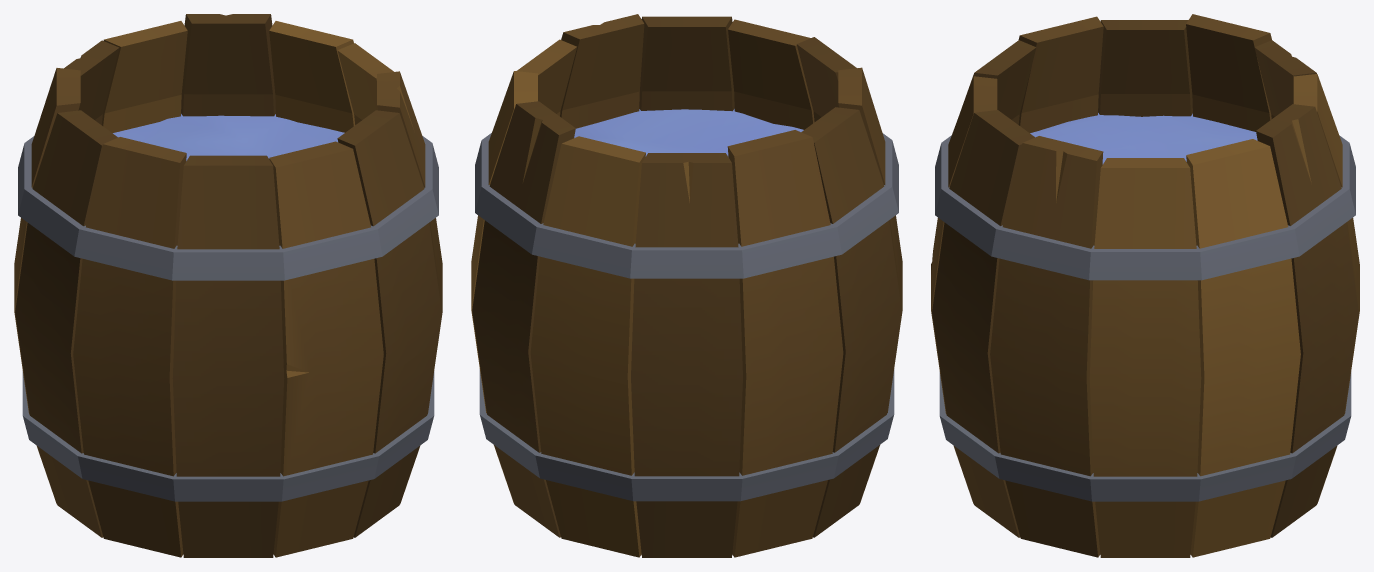
The model's file is Barrel.fbx.
The picture shows the model from 3 angles, left to right: view 1: azimuth 30°, elevation 25°; view 2: azimuth 150°, elevation 25°; view 3: azimuth 270°, elevation 25°; orthographic projection.
Visible parts, largest first — view 1: Barrel; view 2: Barrel; view 3: Barrel.
Boxes of the visible parts, x1=… form: Barrel: x1=14, y1=14, x2=442, y2=557; Barrel: x1=471, y1=14, x2=902, y2=557; Barrel: x1=931, y1=14, x2=1359, y2=557.
Bounding box in the file's own units: 77.8 × 79.94 × 77.8.
